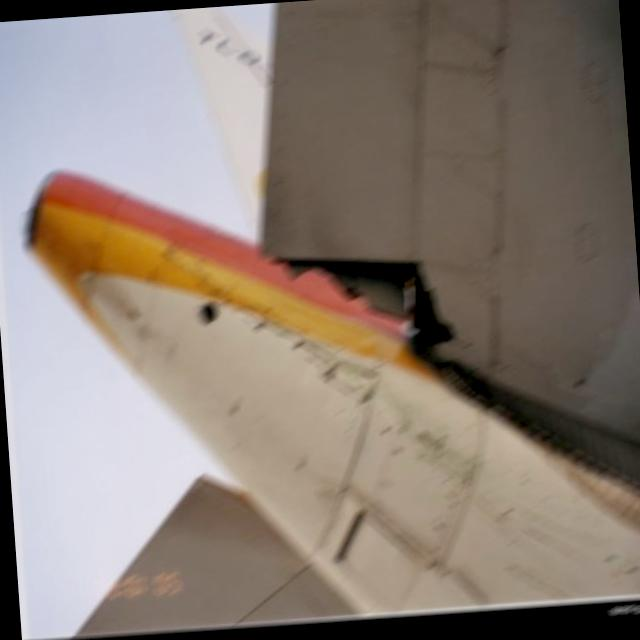crack: (272, 244, 469, 370)
